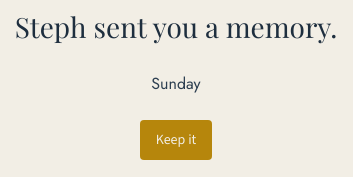
Test case: receiving a shared memory › clears pending token on kept and offers archive
This screenshot has width=353, height=177.
Step 1. Click the button "Keep it" → {"x": 176, "y": 140}, box [140,120,212,160]
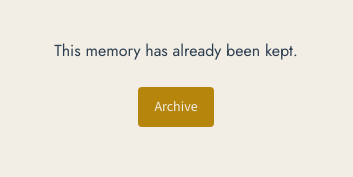
Now the message "This memory has already been kept." is shown, box [54,39,298,62]
Now the button "Archive" is shown, box [138,87,214,127]
